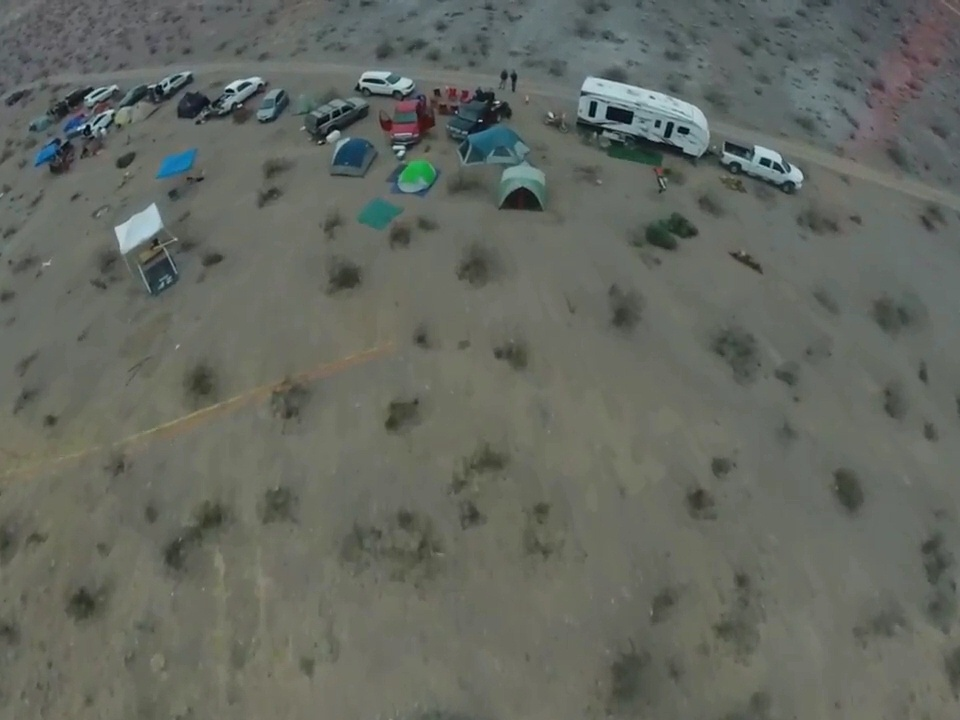araba: (304, 92, 370, 140), (359, 70, 417, 98), (255, 85, 294, 126), (80, 108, 122, 142), (81, 80, 122, 112)
kamyonet: (717, 140, 806, 197), (447, 94, 512, 141), (209, 71, 268, 119), (387, 91, 431, 147), (154, 69, 195, 95)
otobus: (577, 73, 711, 159)
